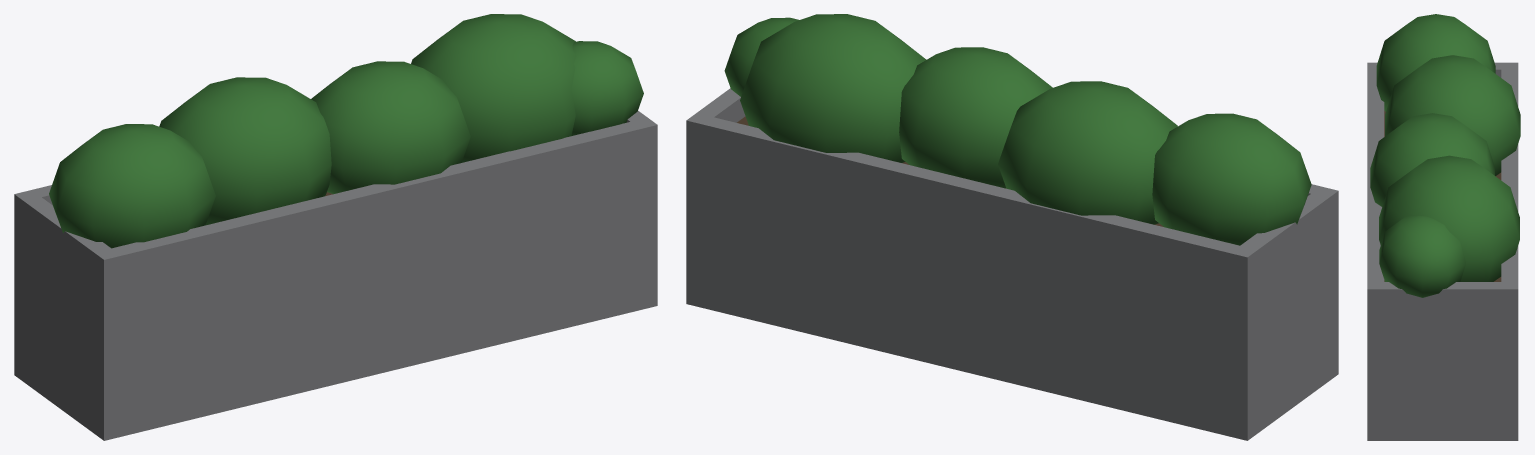
Rendered from ame-016.glb.
3 renders of one model, left to right at view 1: azimuth 30°, elevation 25°; view 2: azimuth 150°, elevation 25°; view 3: azimuth 270°, elevation 25°, orthographic. The views are drawn at different scales.
Visible parts, largest first — view 1: planter_grey, leaf_green; view 2: planter_grey, leaf_green; view 3: leaf_green, planter_grey.
Part boxes in pixels (x1=…): planter_grey: x1=14, y1=110, x2=657, y2=440; leaf_green: x1=49, y1=14, x2=643, y2=248; planter_grey: x1=686, y1=88, x2=1338, y2=440; leaf_green: x1=724, y1=14, x2=1311, y2=245; leaf_green: x1=1370, y1=14, x2=1520, y2=297; planter_grey: x1=1367, y1=62, x2=1518, y2=440.
Size of the model in its own units: 1.66 by 0.758 by 0.4571.
